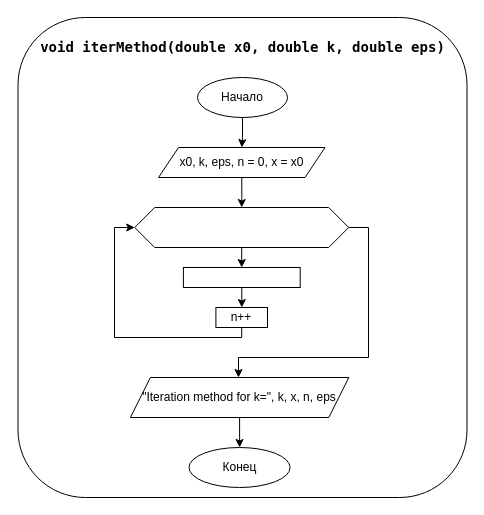
Image size: 484x515. Some labels were removed from this diagram. The shapes that lost their labels are listed below. From the top down, each one's centre as x and y in pixels, then its label:
(241,227): abs ( x - k * cos ( x )) > eps
(241,277): x = k * cos(x)
